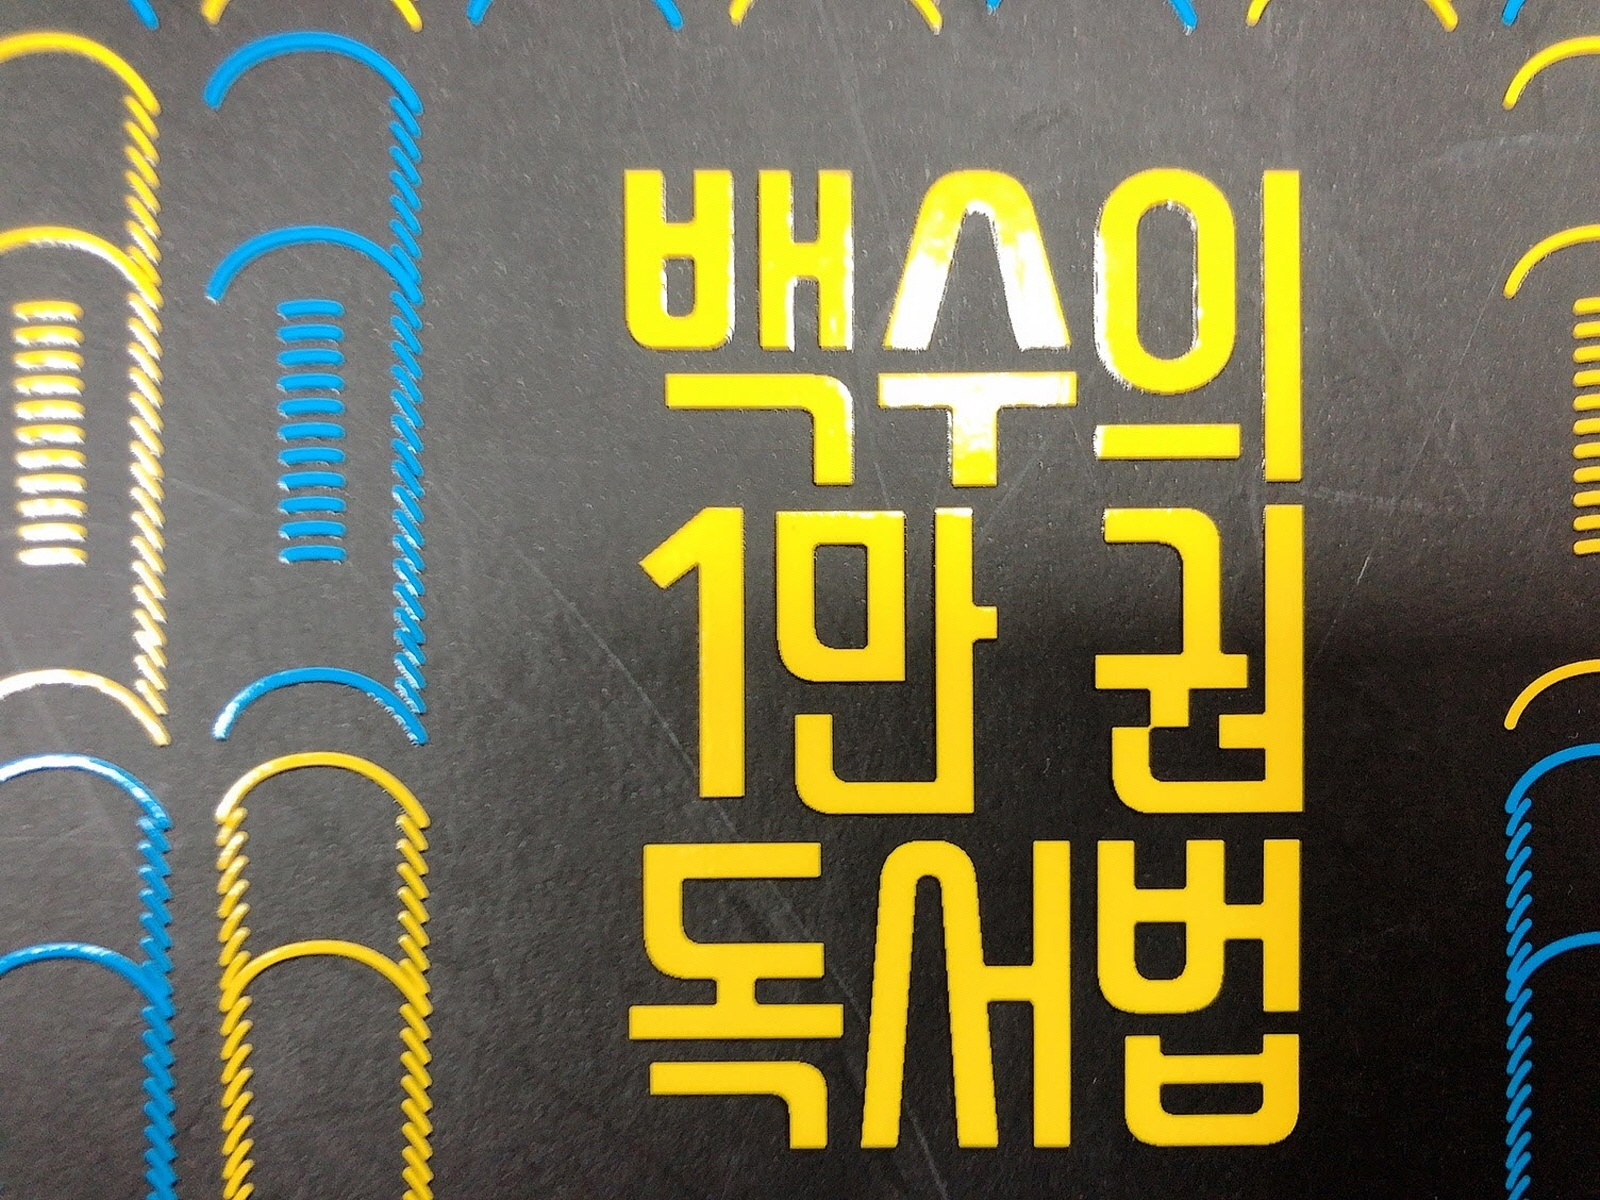text: (590, 141, 1353, 500), (596, 833, 1351, 1167), (756, 499, 1353, 827)
